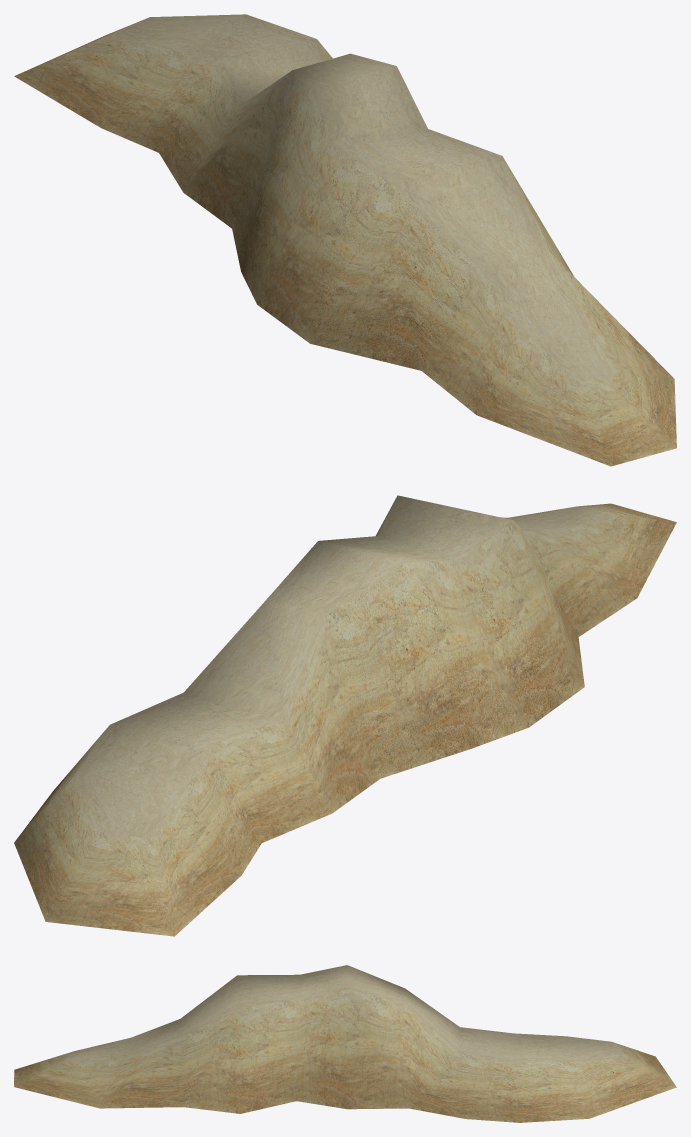
File: rock_beach_spine_a3_l4.fbx
The picture shows the model from 3 angles, top to bottom: view 1: azimuth 30°, elevation 25°; view 2: azimuth 150°, elevation 25°; view 3: azimuth 270°, elevation 25°; orthographic projection. The views are drawn at different scales.
Parts seen in each view (by area): view 1: mesh_node; view 2: mesh_node; view 3: mesh_node.
Part boxes in pixels (box(x1,y1,x2,y2)): mesh_node: box(14, 14, 676, 466); mesh_node: box(14, 495, 676, 936); mesh_node: box(14, 965, 676, 1122).
Bounding box in the file's own units: 7.53 × 4.26 × 25.13.
